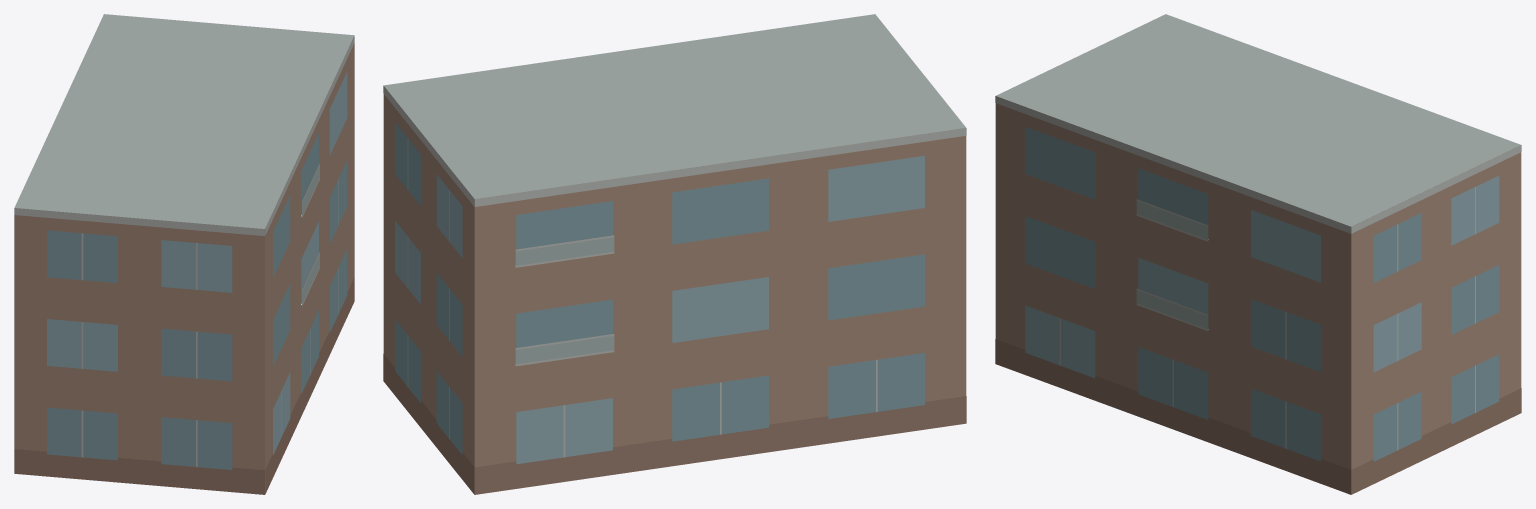
Rendered from survey-upis-33016822.glb.
The picture shows the model from 3 angles, left to right: view 1: azimuth 30°, elevation 25°; view 2: azimuth 150°, elevation 25°; view 3: azimuth 270°, elevation 25°; orthographic projection. The views are drawn at different scales.
Parts seen in each view (by area): view 1: survey-upis-33016822.tmp; view 2: survey-upis-33016822.tmp; view 3: survey-upis-33016822.tmp.
Part boxes in pixels (bbox=[...]): survey-upis-33016822.tmp: bbox=[14, 14, 354, 494]; survey-upis-33016822.tmp: bbox=[383, 14, 966, 494]; survey-upis-33016822.tmp: bbox=[995, 14, 1521, 494].
Size of the model in its own units: 15.58 by 9.15 by 16.27.
